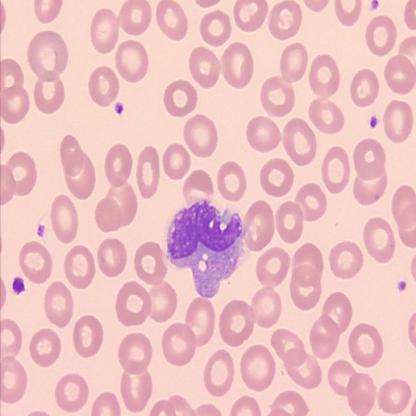Monocyte: (163, 196, 248, 301)
